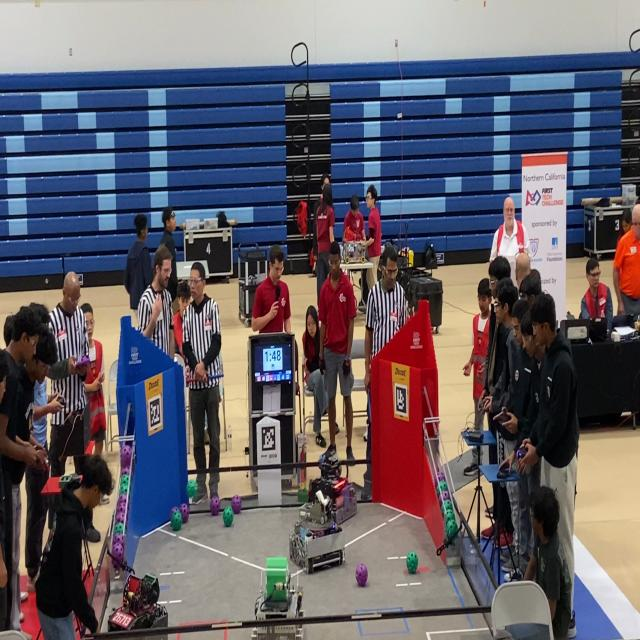artifact_green: (446, 518, 458, 540), (407, 552, 418, 574), (222, 507, 234, 527), (171, 511, 182, 530), (441, 502, 453, 518), (187, 480, 197, 498), (443, 500, 455, 514), (298, 487, 308, 503), (437, 481, 447, 494), (442, 509, 452, 522), (170, 507, 179, 520), (444, 511, 455, 521), (436, 470, 445, 482), (444, 497, 453, 509), (119, 485, 129, 495), (114, 523, 124, 533), (119, 484, 129, 494), (446, 512, 456, 522), (120, 480, 129, 491), (435, 481, 441, 496), (121, 475, 129, 485), (442, 480, 448, 492), (118, 478, 127, 486), (120, 475, 129, 483), (119, 486, 128, 494), (441, 504, 446, 517), (120, 482, 129, 489), (121, 473, 129, 480)
artifact_purple: (111, 543, 125, 563), (356, 564, 367, 586), (121, 445, 132, 466), (210, 496, 220, 515), (232, 495, 241, 514), (180, 504, 189, 523), (112, 534, 124, 545), (117, 494, 126, 508), (116, 502, 127, 513), (170, 507, 179, 519), (116, 510, 125, 522), (117, 505, 127, 515), (112, 559, 120, 571), (121, 466, 130, 476), (441, 491, 450, 501), (437, 471, 445, 482), (438, 495, 442, 507)
